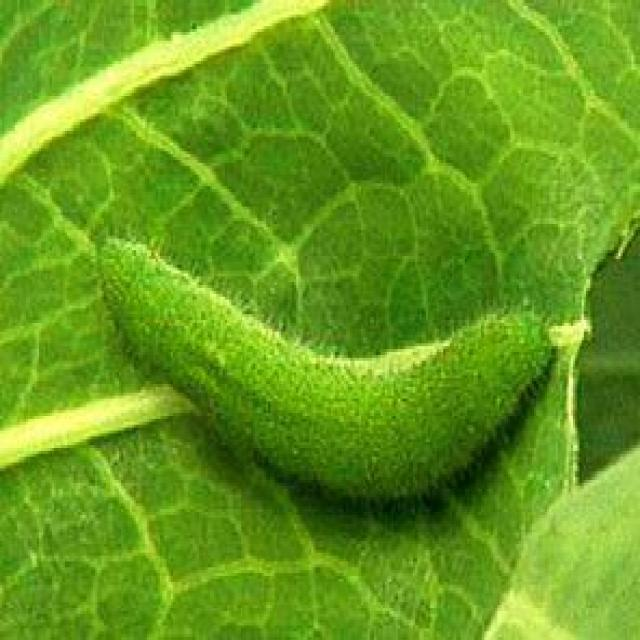BeetArmyWorm-Larva-: (82, 229, 568, 513)
